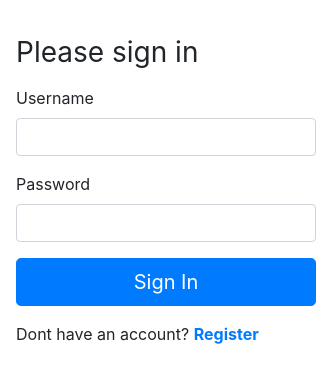
Test: App Component › should load login form
Check: the heading "Please sign in" is shown, box [16,35,198,69]
Check: the text "Username" is shown, box [16,86,94,110]
Click the button "Sign In" at (166, 282), box [16,258,316,306]
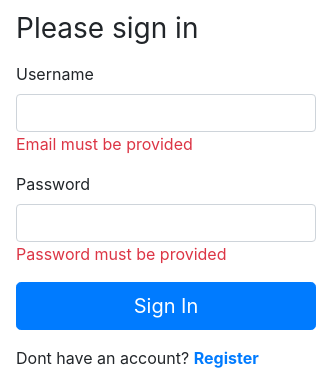
Check: the text "Email must be provided" is shown, box [16,134,193,154]
Check: the text "Password must be provided" is shown, box [16,244,226,264]
